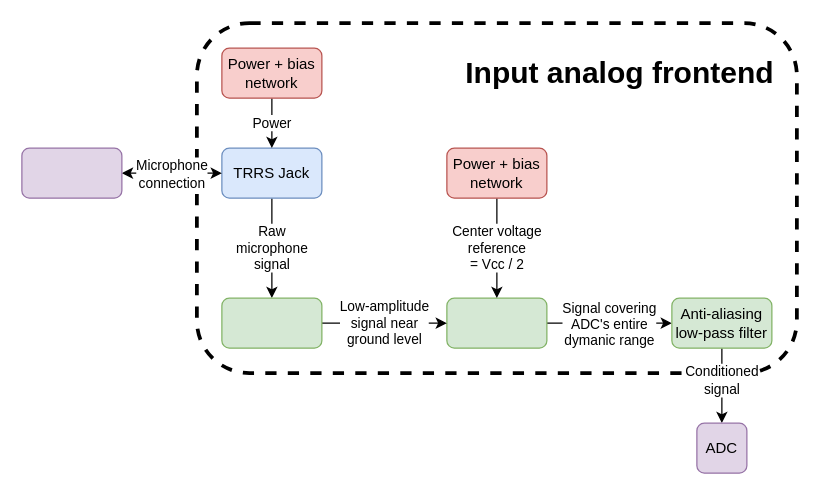
This 820x495 diagram has some shape labels left out. Each missing label, with the centre of its shape:
"DC isloator" belongs at [271,322].
"Headset with microphone" belongs at [71,172].
"Pre-amplifier + center bias" belongs at [496,322].
